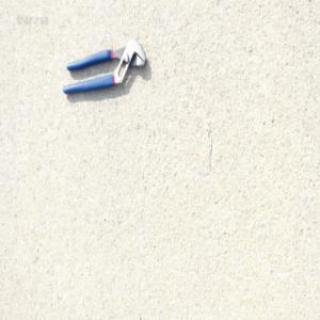Pliertrack_idkeyframe: (60, 36, 146, 96)
